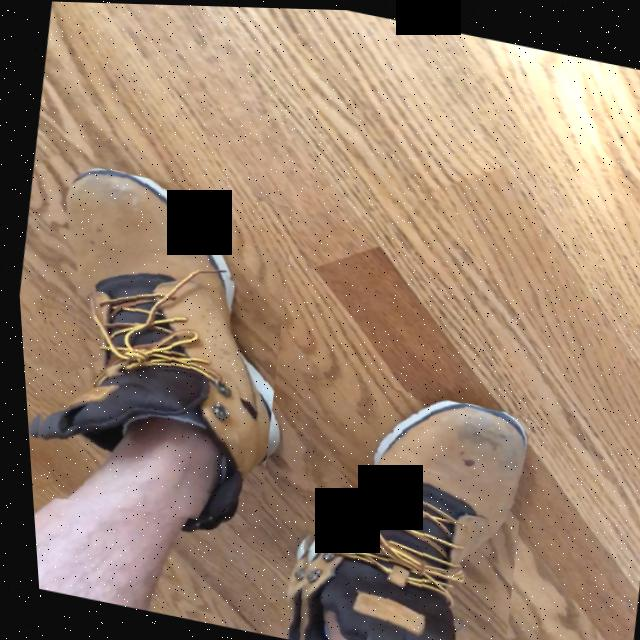shoe: (29, 168, 265, 521), (290, 399, 522, 640)
